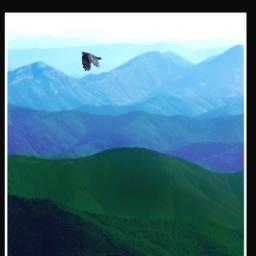Crow: (81, 52, 102, 72)
